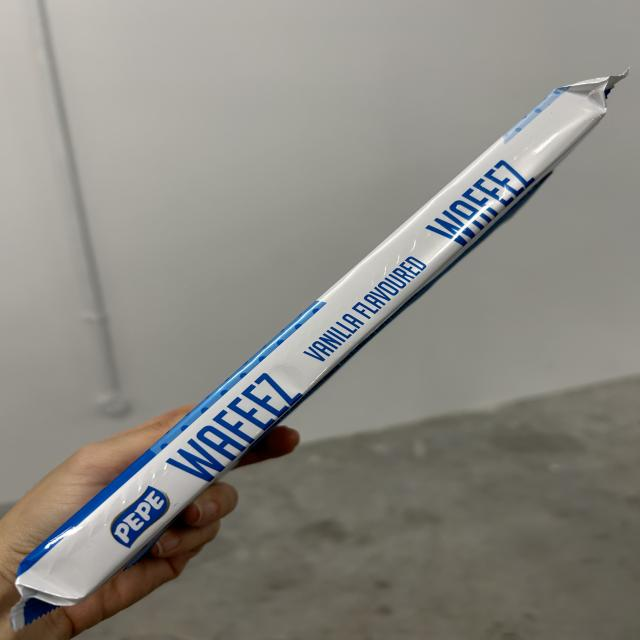object_name: (17, 80, 604, 603)
